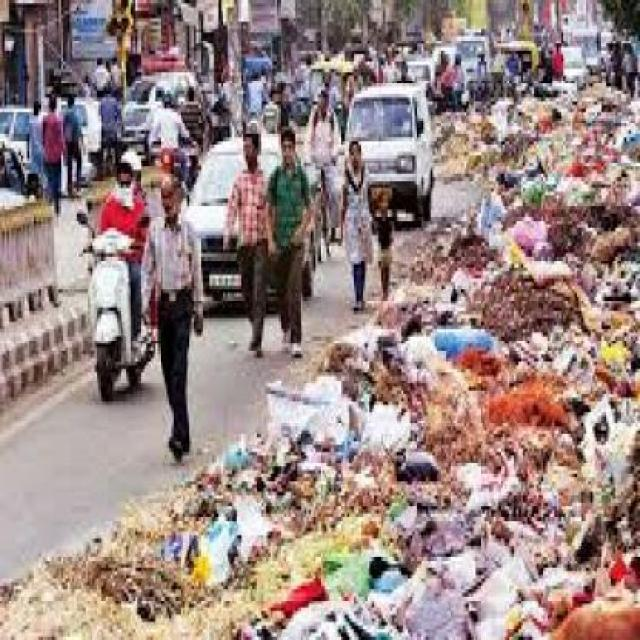garbage: (276, 380, 625, 616), (463, 145, 623, 460), (130, 471, 409, 637), (349, 282, 492, 473), (562, 75, 636, 144)
